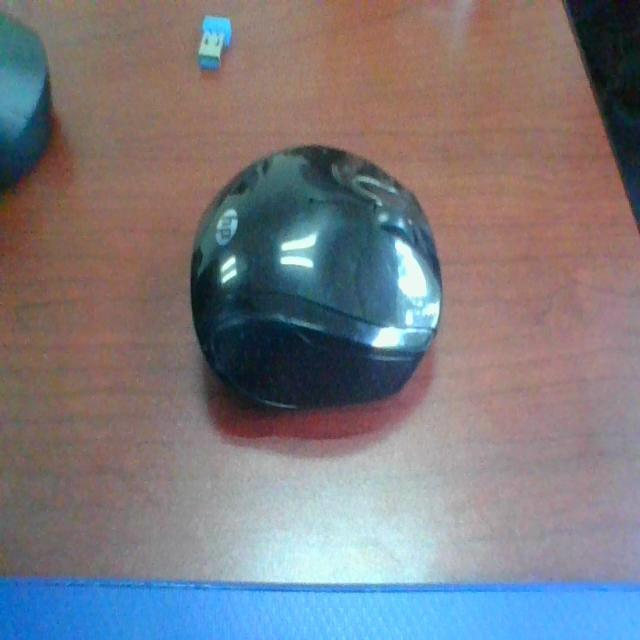Mouse: (184, 117, 451, 419)
